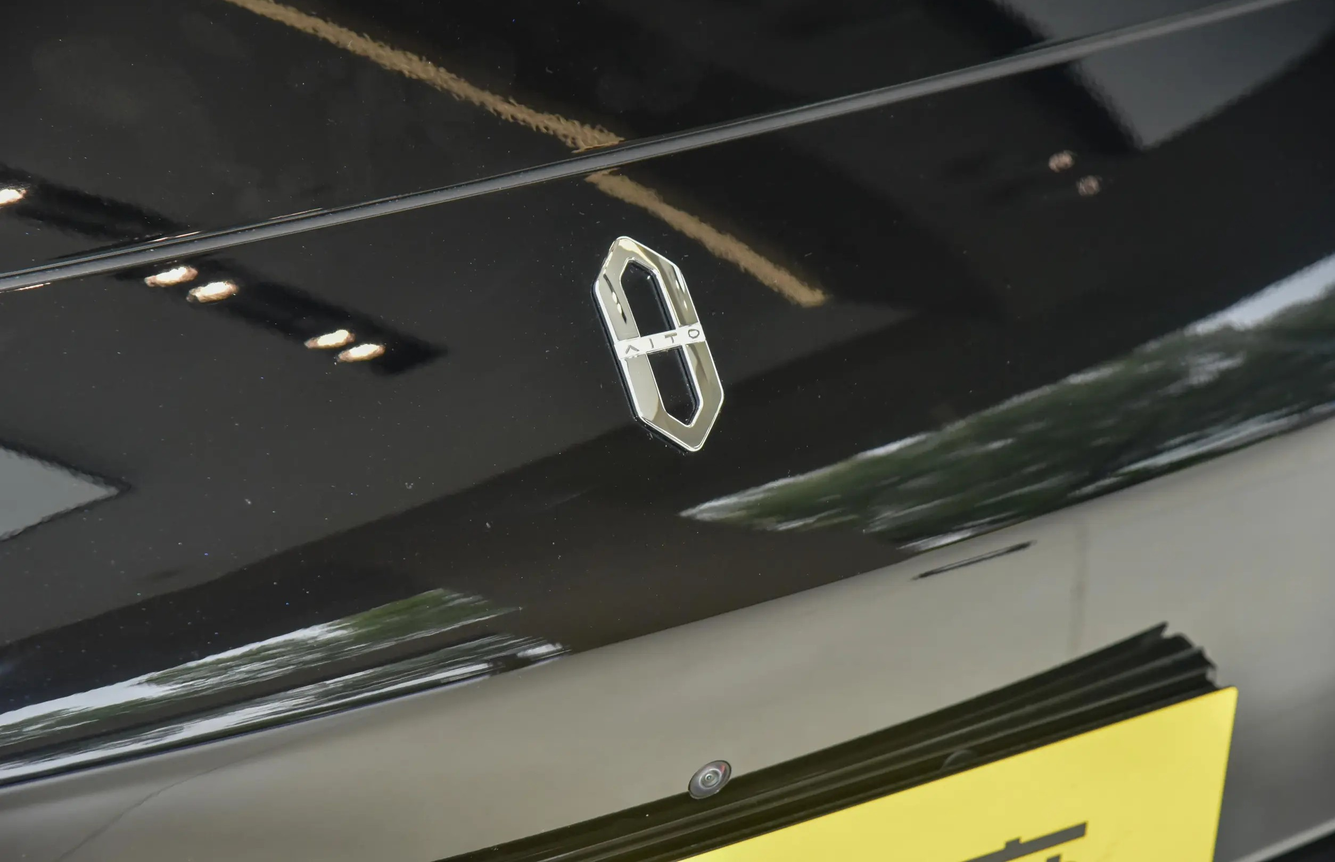AITO: (593, 236, 723, 451)
